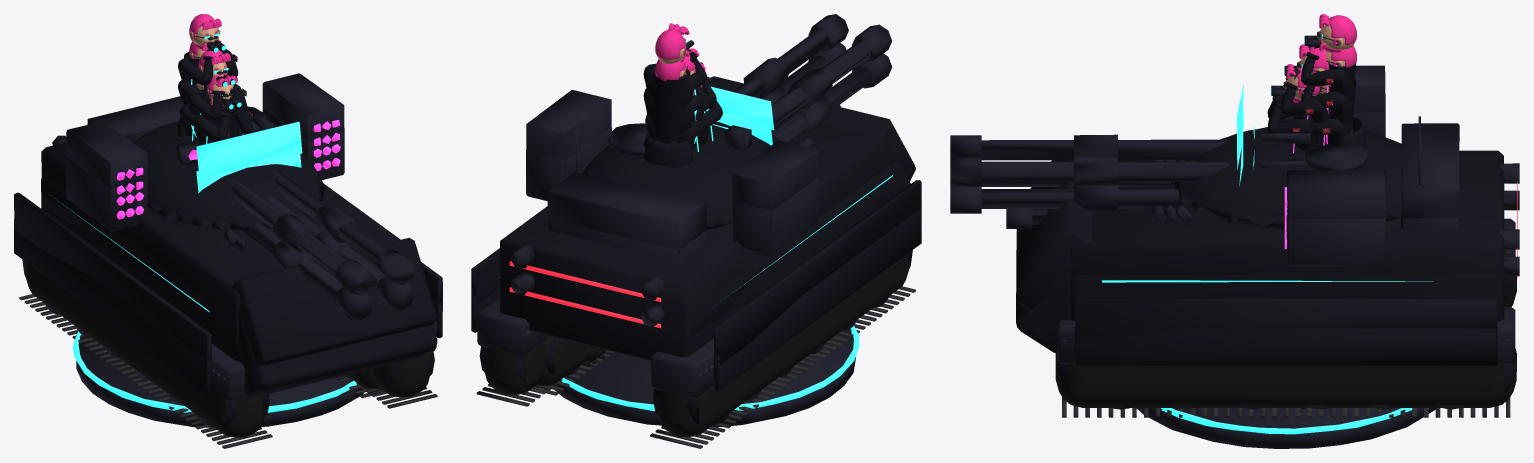
The model's file is bjoern_neon.glb.
3 renders of one model, left to right at view 1: azimuth 30°, elevation 25°; view 2: azimuth 150°, elevation 25°; view 3: azimuth 270°, elevation 25°, orthographic. The views are drawn at different scales.
Visible parts, largest first — view 1: op4_net, ned4.001_net, fod_net, ned1.002_net, op4.002_net, ned2.002_net, ned2_net, op4.001_net, ned3.001_net, ned4_net, ned2.001_net, ned1.001_net; view 2: op4_net, ned4.001_net, fod_net, op4.002_net, ned3.001_net, ned4_net, op4.001_net, ned3_net, ned4.002_net, ned1.002_net; view 3: op4_net, ned4.001_net, fod_net, op4.002_net, ned2.002_net, op4.001_net, ned2_net, ned4_net, ned1.002_net, ned3.001_net, ned3_net, ned4.002_net.
Part boxes in pixels (x1,y1,x2,y2): op4_net: [14, 73, 442, 400]; ned4.001_net: [14, 109, 442, 448]; fod_net: [73, 331, 364, 427]; ned1.002_net: [193, 92, 253, 145]; op4.002_net: [177, 36, 238, 137]; ned2.002_net: [194, 41, 314, 252]; ned2_net: [187, 70, 247, 141]; op4.001_net: [189, 14, 221, 49]; ned3.001_net: [263, 298, 383, 422]; ned4_net: [178, 77, 237, 137]; ned2.001_net: [198, 50, 230, 76]; ned1.001_net: [206, 73, 236, 108]; op4_net: [471, 14, 921, 398]; ned4.001_net: [471, 43, 921, 448]; fod_net: [555, 326, 859, 427]; op4.002_net: [643, 49, 706, 167]; ned3.001_net: [533, 105, 840, 420]; ned4_net: [643, 86, 705, 143]; op4.001_net: [655, 23, 689, 63]; ned3_net: [645, 114, 706, 151]; ned4.002_net: [655, 49, 689, 81]; ned1.002_net: [695, 100, 722, 146]; op4_net: [950, 65, 1519, 363]; ned4.001_net: [950, 94, 1519, 417]; fod_net: [1136, 408, 1435, 448]; op4.002_net: [1301, 31, 1366, 147]; ned2.002_net: [1148, 116, 1423, 409]; op4.001_net: [1316, 14, 1356, 52]; ned2_net: [1281, 62, 1331, 144]; ned4_net: [1301, 78, 1356, 144]; ned1.002_net: [1267, 81, 1316, 153]; ned3.001_net: [1006, 209, 1048, 228]; ned3_net: [1302, 115, 1348, 146]; ned4.002_net: [1319, 40, 1356, 67].
Bounding box in the file's own units: 1.94 × 2.28 × 3.24.
